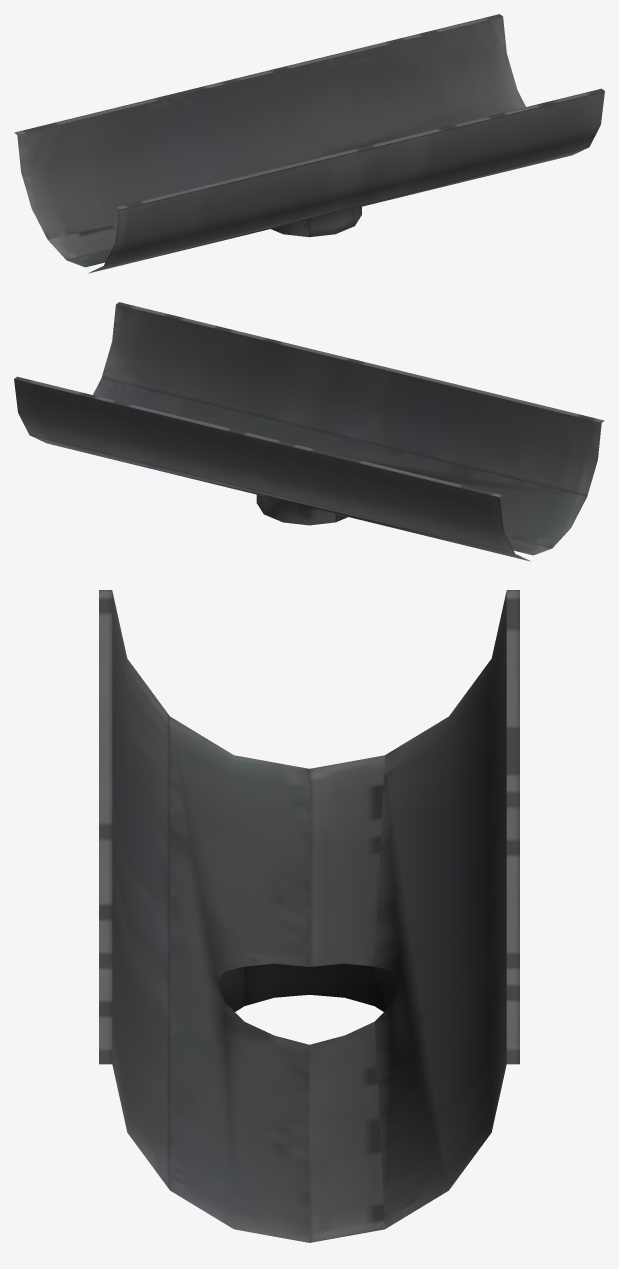
3 views of the same model, one above another, from view 1: azimuth 30°, elevation 25°; view 2: azimuth 150°, elevation 25°; view 3: azimuth 270°, elevation 25° (orthographic). The views are drawn at different scales.
Parts seen in each view (by area): view 1: body0_model0_lod0_mesh0; view 2: body0_model0_lod0_mesh0; view 3: body0_model0_lod0_mesh0.
Boxes of the visible parts, x1,y1,x2,y2 form: body0_model0_lod0_mesh0: (14,14,604,273); body0_model0_lod0_mesh0: (14,302,604,561); body0_model0_lod0_mesh0: (99,590,519,1242).
Size of the model in its own units: 64 by 13 by 24.
Materials: 1 (1 with a texture image).
